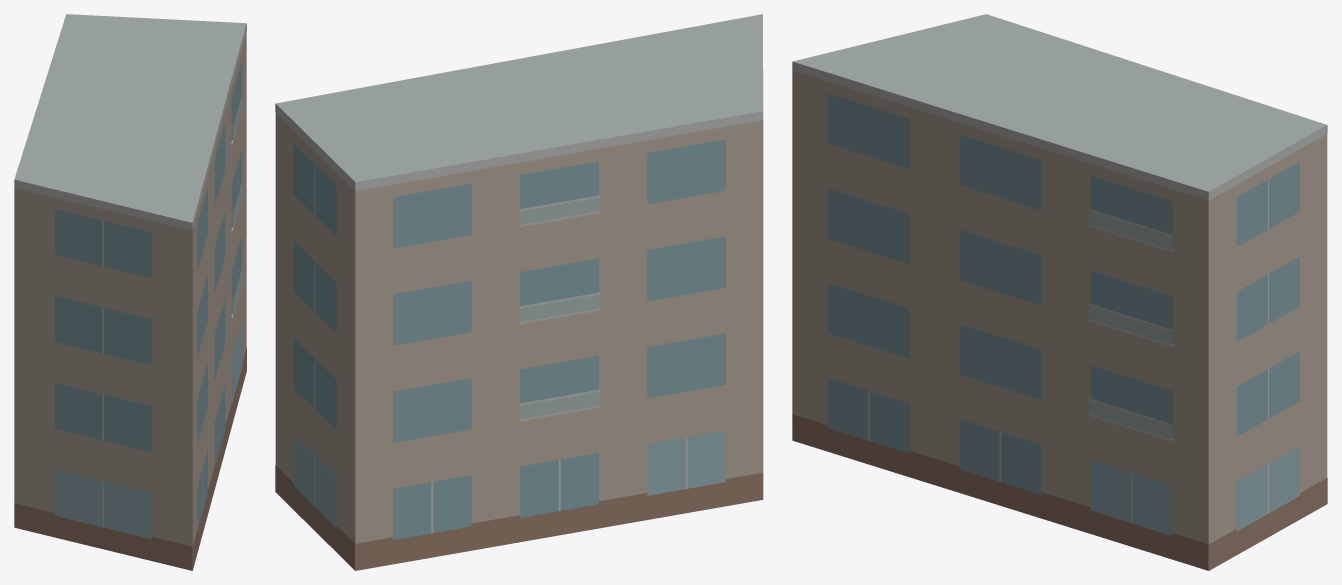
Rendered from survey-upis-32920359.glb.
3 views of the same model, side by side, from view 1: azimuth 30°, elevation 25°; view 2: azimuth 150°, elevation 25°; view 3: azimuth 270°, elevation 25° (orthographic). The views are drawn at different scales.
Visible parts, largest first — view 1: survey-upis-32920359.tmp; view 2: survey-upis-32920359.tmp; view 3: survey-upis-32920359.tmp.
Boxes of the visible parts, x1=… form: survey-upis-32920359.tmp: x1=14, y1=14, x2=246, y2=570; survey-upis-32920359.tmp: x1=275, y1=14, x2=763, y2=570; survey-upis-32920359.tmp: x1=792, y1=14, x2=1327, y2=570.
Bounding box in the file's own units: 10.63 × 10.55 × 13.5.
